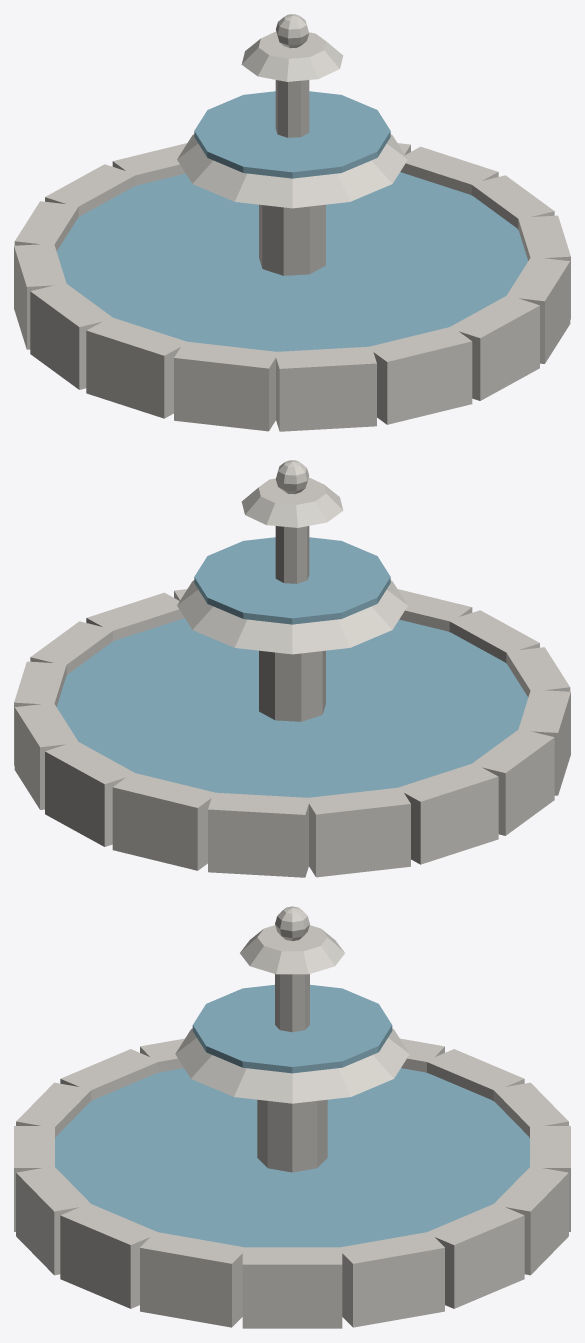
Rendered from fountain_tiered.glb.
The picture shows the model from 3 angles, top to bottom: view 1: azimuth 30°, elevation 25°; view 2: azimuth 150°, elevation 25°; view 3: azimuth 270°, elevation 25°; orthographic projection.
Parts seen in each view (by area): view 1: fountain_tiered; view 2: fountain_tiered; view 3: fountain_tiered.
Part boxes in pixels (box(x1,y1,x2,y2)): fountain_tiered: box(14, 14, 570, 431); fountain_tiered: box(14, 460, 570, 877); fountain_tiered: box(14, 906, 570, 1328).
Size of the model in its own units: 4.75 by 2.85 by 4.75.
